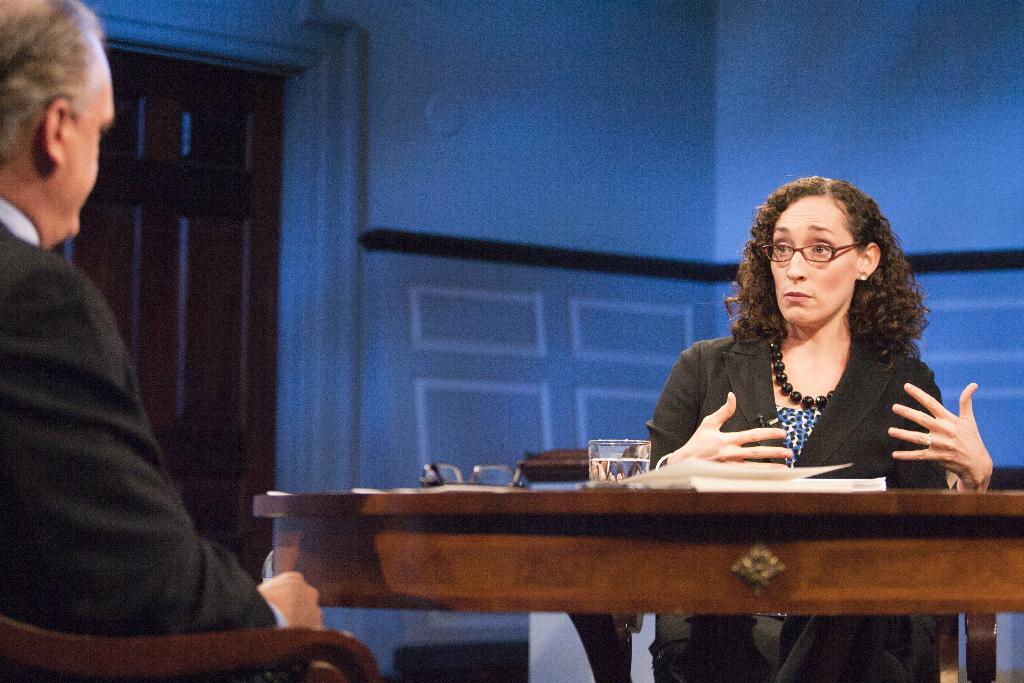Human_hand: (664, 390, 797, 463), (908, 385, 992, 488), (255, 568, 326, 633)
